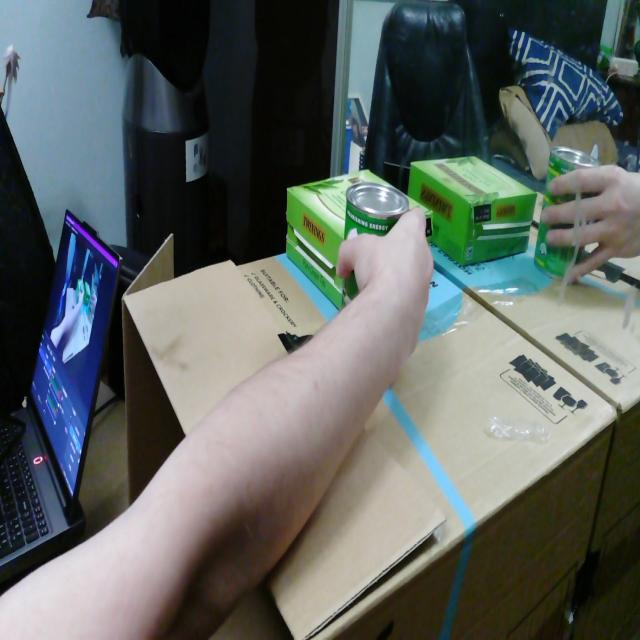nestle_milo_tin: (344, 182, 409, 239), (342, 271, 358, 310)
twinings_greentea_box: (286, 170, 392, 311), (408, 197, 433, 242)
